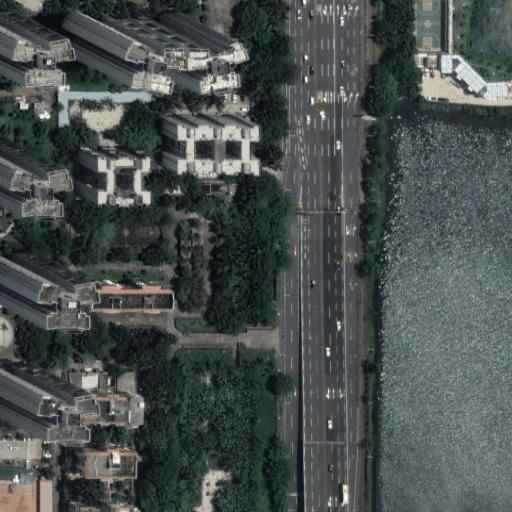building: (161, 115, 245, 166), (123, 8, 187, 67), (64, 8, 127, 64), (73, 144, 126, 190), (85, 281, 166, 308), (438, 53, 484, 93), (73, 392, 132, 422), (0, 251, 37, 298), (0, 361, 34, 408), (69, 371, 135, 393), (74, 450, 127, 475), (0, 433, 40, 460), (70, 502, 135, 512), (444, 0, 454, 51), (39, 477, 53, 512), (484, 81, 507, 101), (423, 53, 438, 68), (0, 469, 12, 484), (21, 471, 33, 484), (412, 56, 423, 68), (507, 81, 512, 97)
